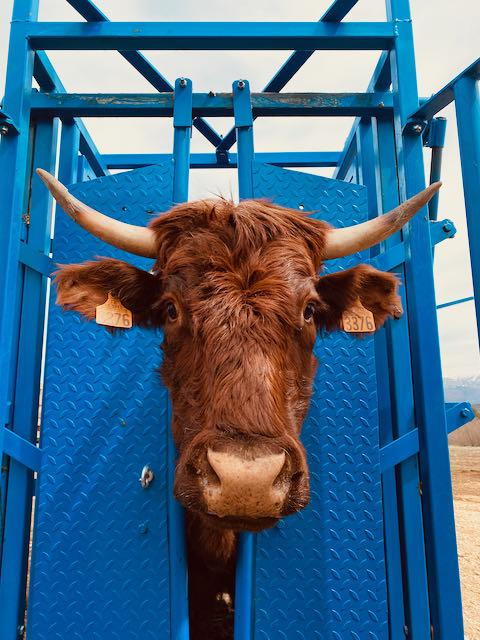muzzles: (166, 437, 311, 534)
